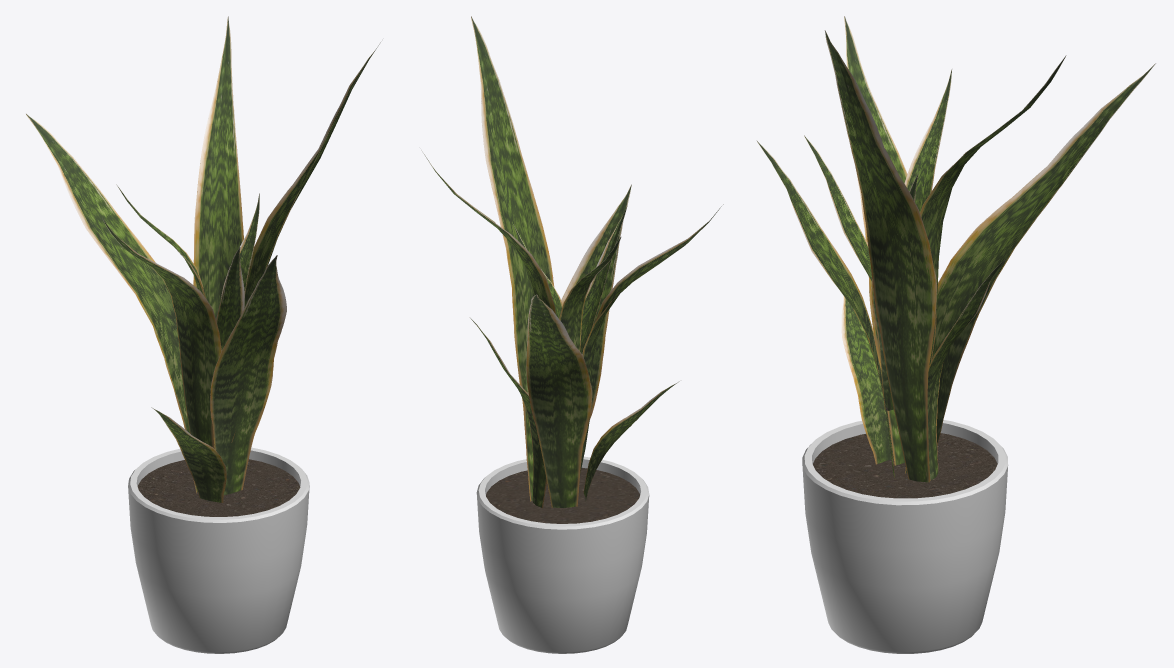
The model's file is plant2.glb.
3 renders of one model, left to right at view 1: azimuth 30°, elevation 25°; view 2: azimuth 150°, elevation 25°; view 3: azimuth 270°, elevation 25°, orthographic. The views are drawn at different scales.
Parts seen in each view (by area): view 1: SnakePlant_01; view 2: SnakePlant_01; view 3: SnakePlant_01.
Boxes of the visible parts, left/top/right/bottom form: SnakePlant_01: left=26, top=16, right=380, bottom=653; SnakePlant_01: left=421, top=16, right=723, bottom=653; SnakePlant_01: left=756, top=16, right=1155, bottom=653.
Size of the model in its own units: 0.2973 by 0.5885 by 0.3234.
Materials: 3 (2 with a texture image).
